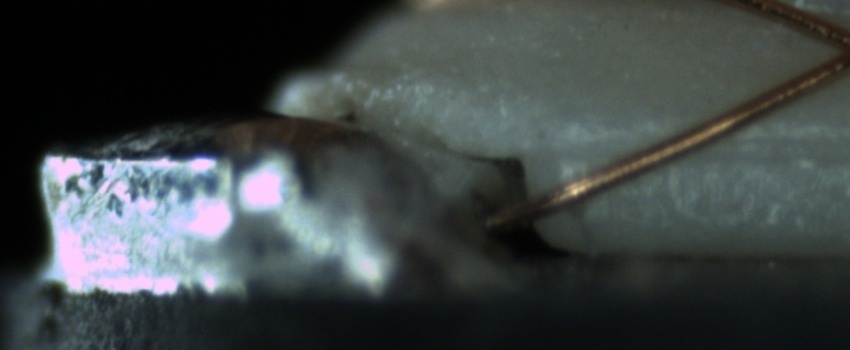CL: (805, 10, 850, 83)
DL: (558, 110, 847, 178)
